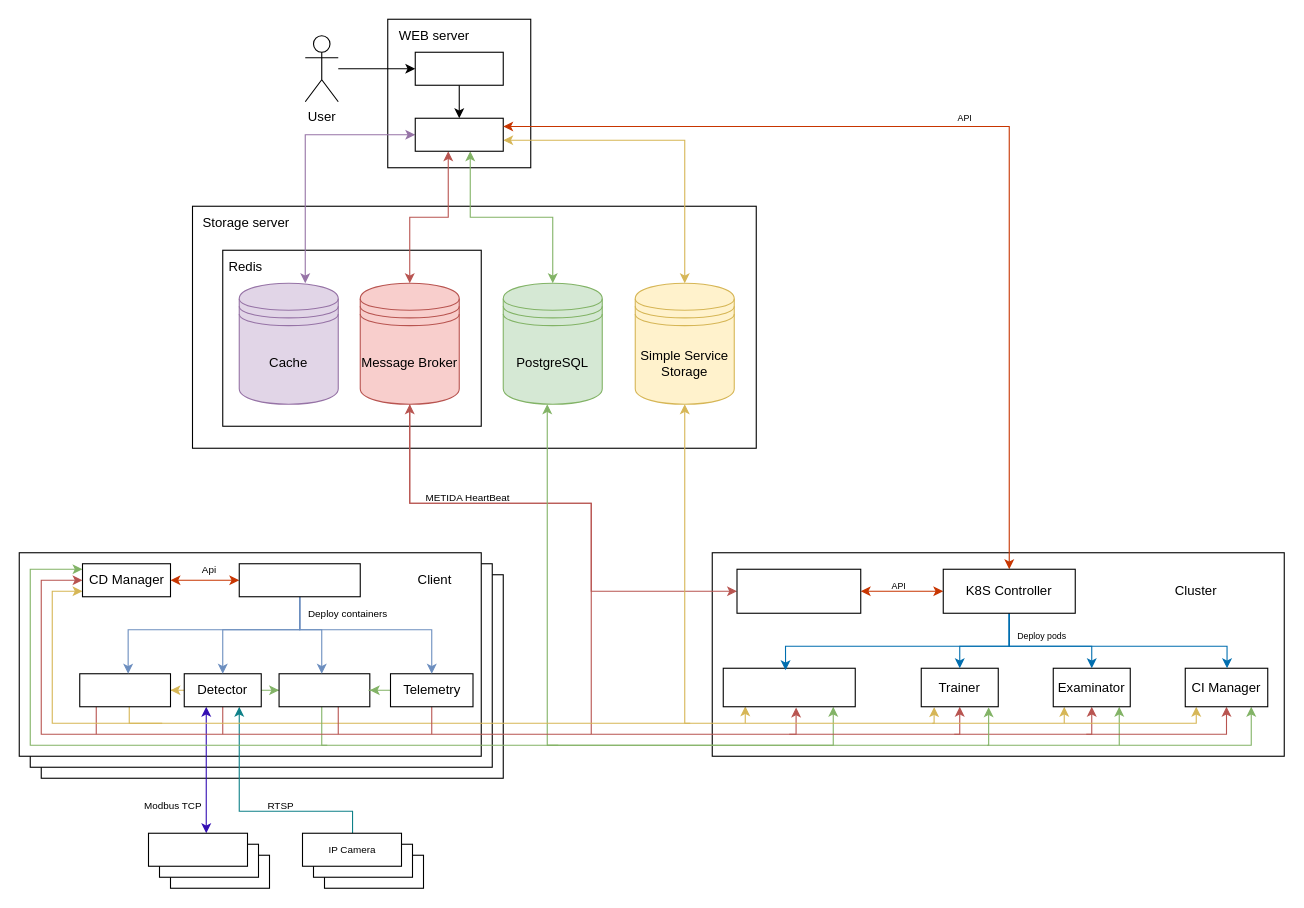
Image size: 1304x908. Some labels were removed from this diagram. Here are the shapes that lost their labels. From the top down, the box of each, then its label:
(414, 51, 503, 85): Front-end
(414, 117, 503, 151): Back-end
(238, 563, 360, 597): Docker Compose
(736, 568, 861, 613): LoadBalancer
(79, 673, 170, 707): DataCache
(278, 673, 370, 707): SQLCache
(722, 667, 855, 707): DataProcessor
(147, 832, 248, 866): Automation System
